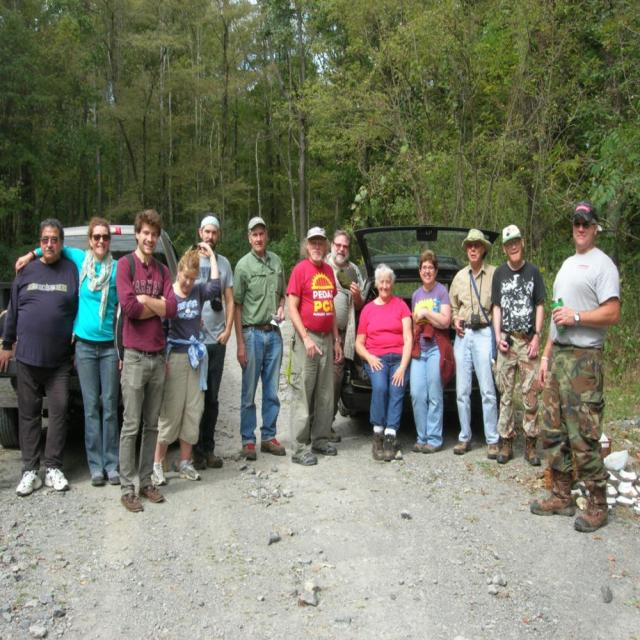body: (528, 198, 623, 534), (13, 213, 128, 487), (0, 215, 81, 498), (112, 206, 178, 515), (146, 239, 221, 489), (173, 208, 237, 472), (228, 214, 288, 462), (284, 224, 344, 467), (488, 222, 546, 466), (305, 229, 366, 445), (446, 225, 501, 460), (352, 261, 412, 462), (405, 247, 453, 455)
